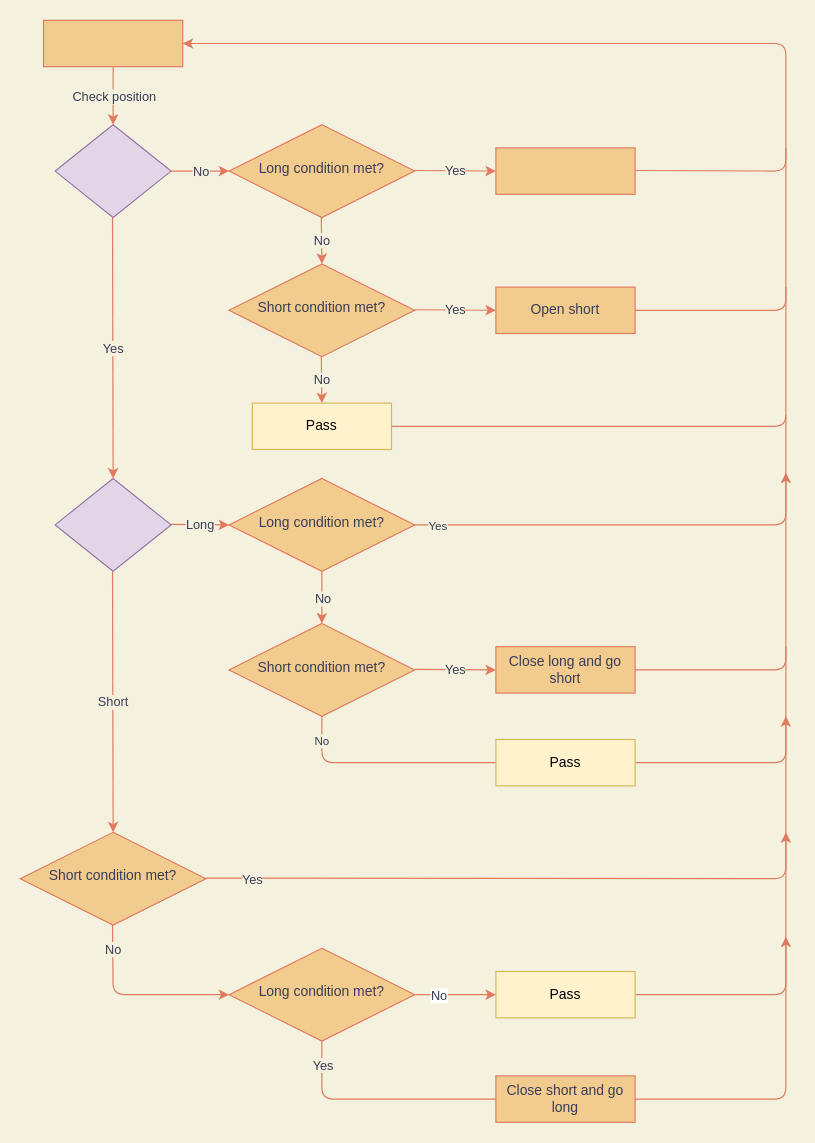
Image size: 815x1143. Some labels were removed from this diagram. The shapes that lost their labels are listed below. From the top down, each one's centre as x and y in pixels, then its label:
[112,43]: New price is streamed
[112,170]: Position?
[565,170]: Open long
[112,524]: Short or Long?
